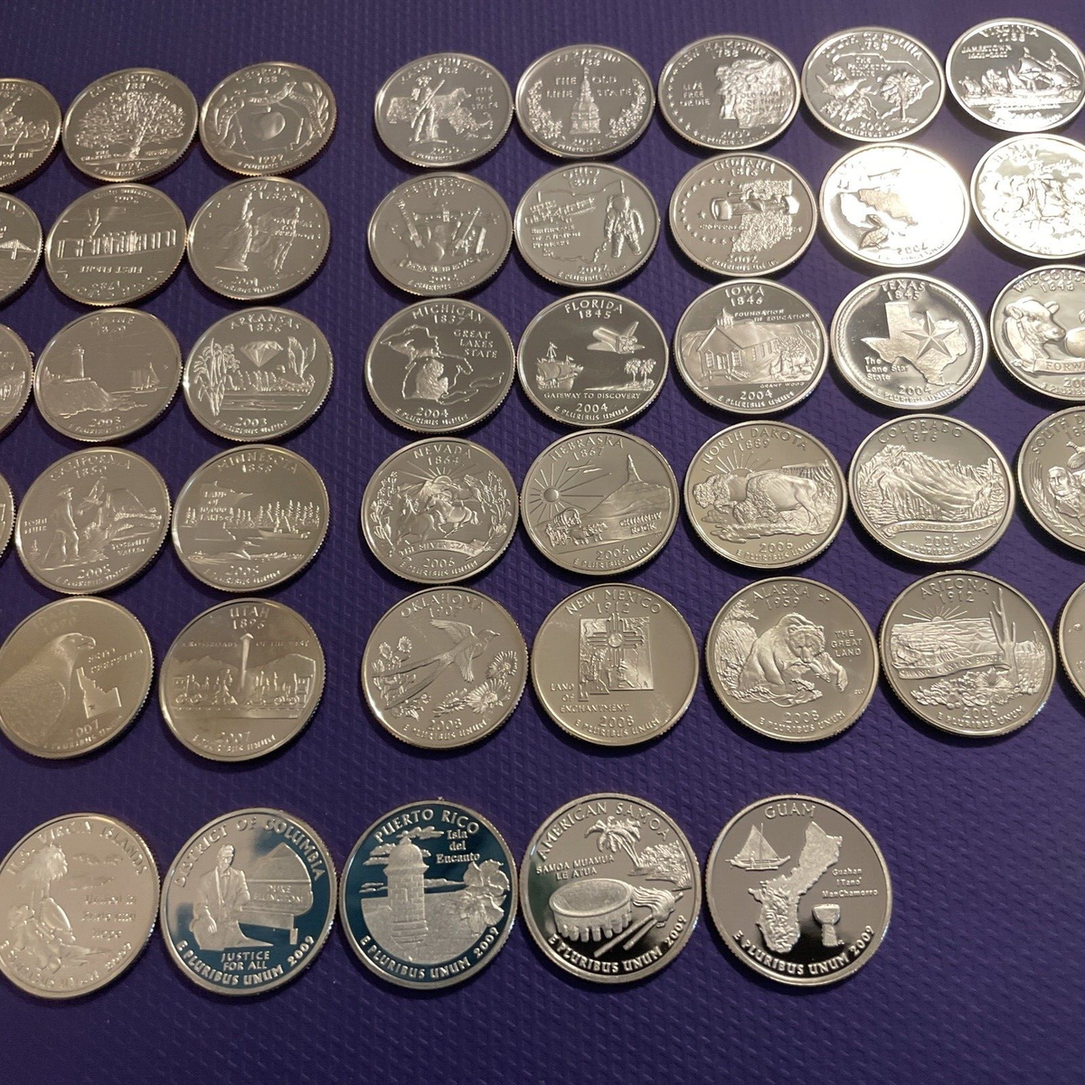coin: (705, 795, 892, 986), (520, 793, 701, 982), (339, 799, 516, 989), (161, 807, 335, 995), (0, 813, 157, 998), (880, 571, 1054, 736), (705, 577, 877, 741), (532, 583, 698, 746), (361, 587, 527, 749), (158, 599, 324, 760), (848, 414, 1014, 563), (0, 597, 152, 758), (684, 420, 846, 568), (521, 429, 679, 576), (361, 438, 517, 583), (172, 446, 327, 591), (16, 448, 169, 594), (830, 274, 988, 410), (675, 279, 827, 414), (517, 292, 666, 427), (183, 306, 332, 440), (365, 298, 514, 431), (34, 308, 180, 442), (819, 143, 968, 268), (669, 153, 816, 277), (367, 172, 512, 296), (515, 163, 658, 288), (188, 176, 329, 301), (46, 184, 185, 306), (801, 27, 945, 141), (658, 35, 798, 150), (374, 52, 512, 167), (515, 44, 654, 157), (946, 18, 1084, 131), (200, 62, 335, 175), (63, 68, 197, 181), (972, 134, 1084, 259), (990, 265, 1084, 401), (0, 78, 61, 187)
